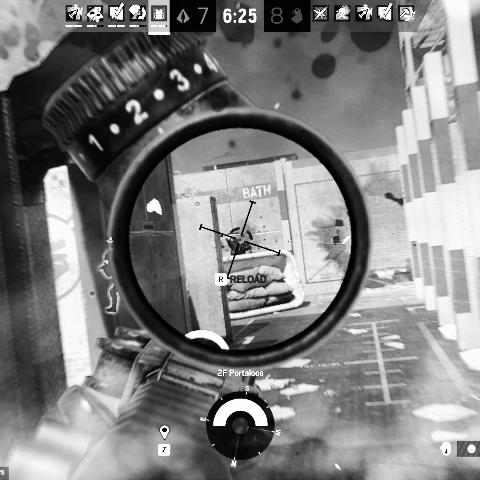Character: (228, 236, 253, 256)
Friend_label: (102, 236, 118, 252)
Head: (229, 237, 240, 246)
